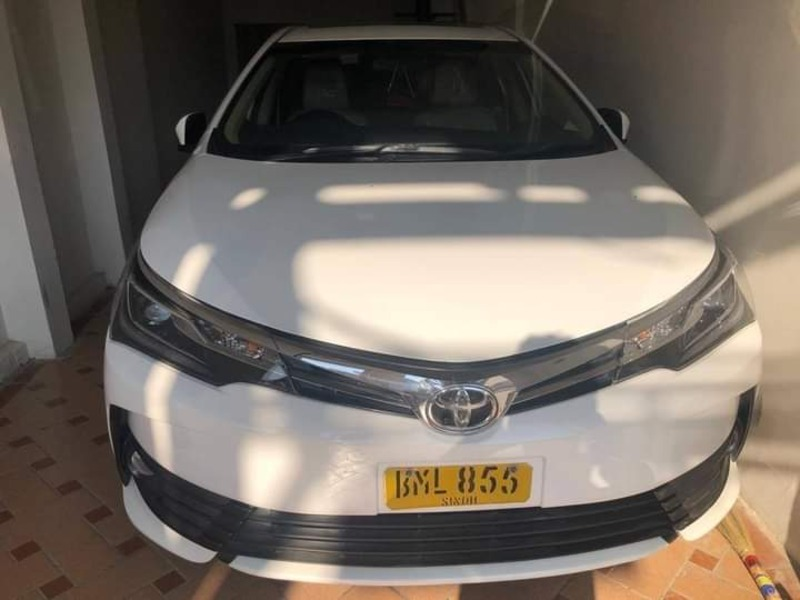License Plate: (382, 461, 538, 520)
